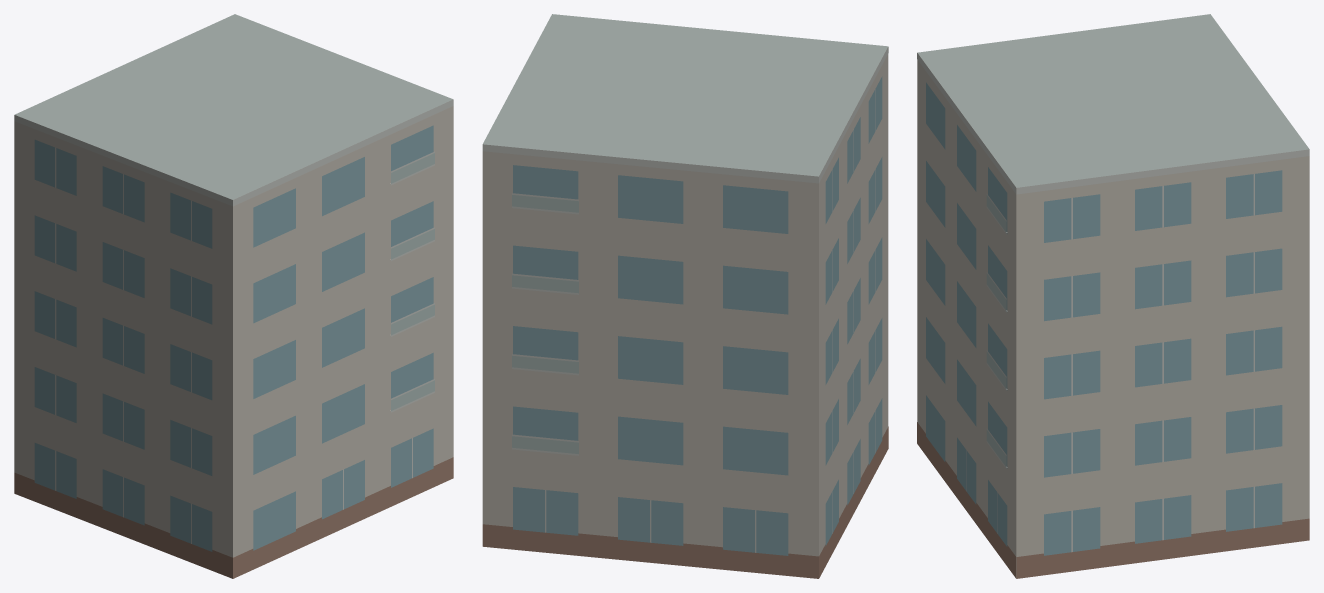
The model's file is survey-upis-32664783.glb.
3 renders of one model, left to right at view 1: azimuth 30°, elevation 25°; view 2: azimuth 150°, elevation 25°; view 3: azimuth 270°, elevation 25°, orthographic. The views are drawn at different scales.
Visible parts, largest first — view 1: survey-upis-32664783.tmp; view 2: survey-upis-32664783.tmp; view 3: survey-upis-32664783.tmp.
Boxes of the visible parts, x1,y1,x2,y2 form: survey-upis-32664783.tmp: (14,14,453,578); survey-upis-32664783.tmp: (482,14,888,578); survey-upis-32664783.tmp: (917,14,1309,578).
Size of the model in its own units: 13.65 by 14.3 by 13.02.
